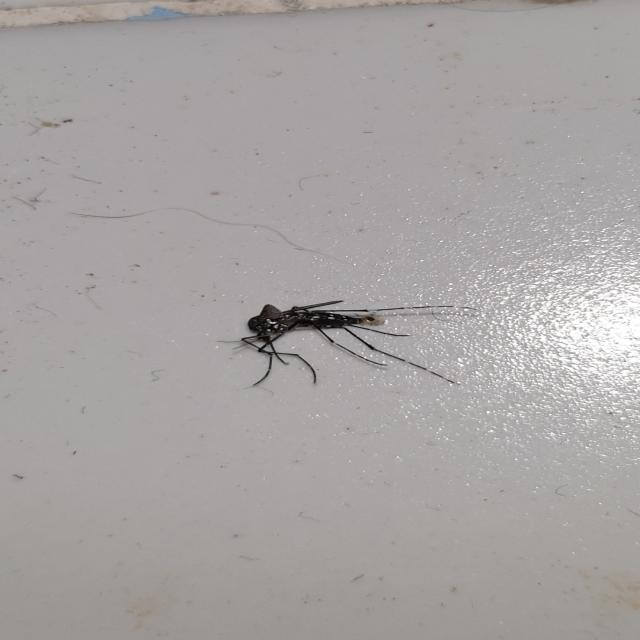albopictus: (210, 285, 469, 393)
